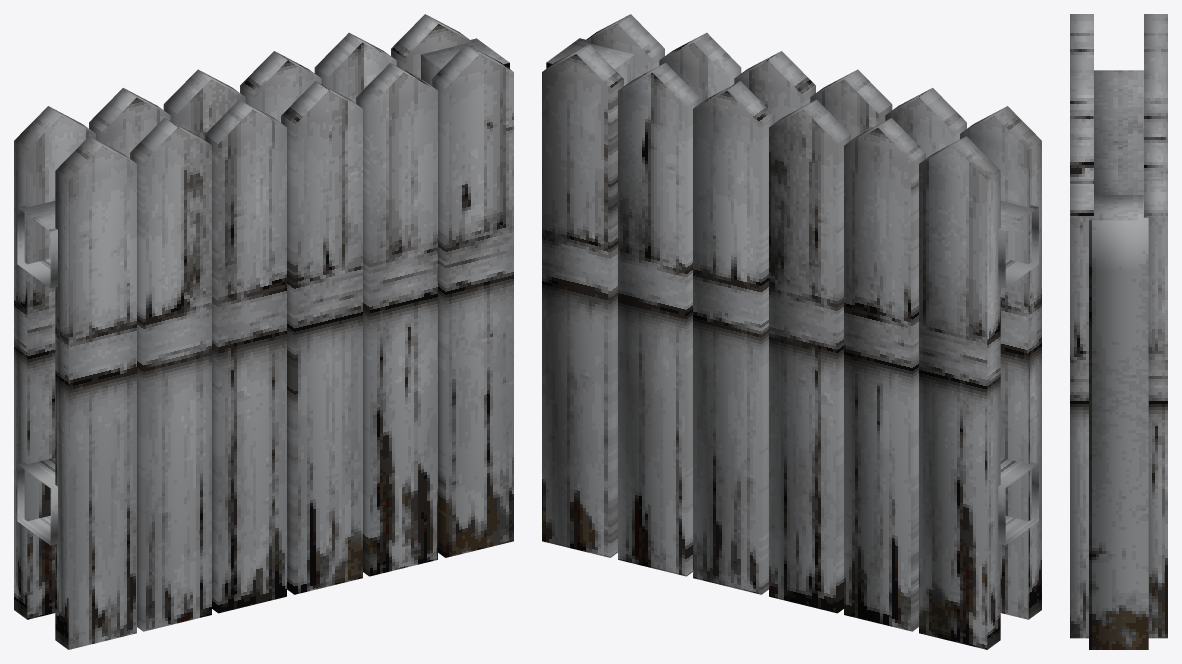
The model's file is woodFence.glb.
3 renders of one model, left to right at view 1: azimuth 30°, elevation 25°; view 2: azimuth 150°, elevation 25°; view 3: azimuth 270°, elevation 25°, orthographic. The views are drawn at different scales.
Parts seen in each view (by area): view 1: woodFence; view 2: woodFence; view 3: woodFence.
Boxes of the visible parts, box(x1,y1,x2,y2) form: woodFence: box(14, 14, 513, 649); woodFence: box(542, 14, 1041, 649); woodFence: box(1070, 14, 1167, 649).
Bounding box in the file's own units: 1 × 1.06 × 0.2064.
1 material, 1 textured.
